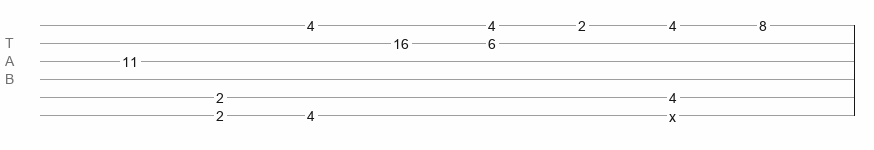11: (122, 54, 138, 64)
16: (393, 36, 409, 46)
2: (216, 108, 224, 118), (216, 90, 224, 100), (578, 18, 586, 28)
4: (307, 18, 315, 28), (307, 108, 315, 118), (488, 18, 496, 28), (669, 18, 677, 28), (669, 90, 677, 100)
6: (488, 36, 496, 46)
8: (759, 18, 767, 28)
x: (669, 109, 676, 117)
